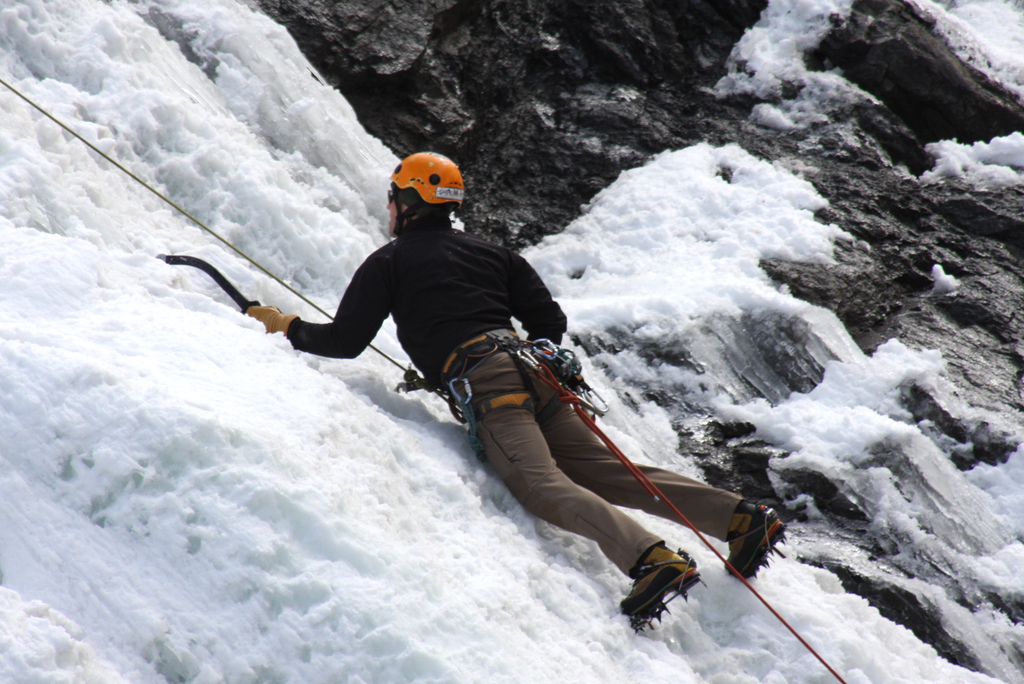Person: (246, 150, 788, 633)
